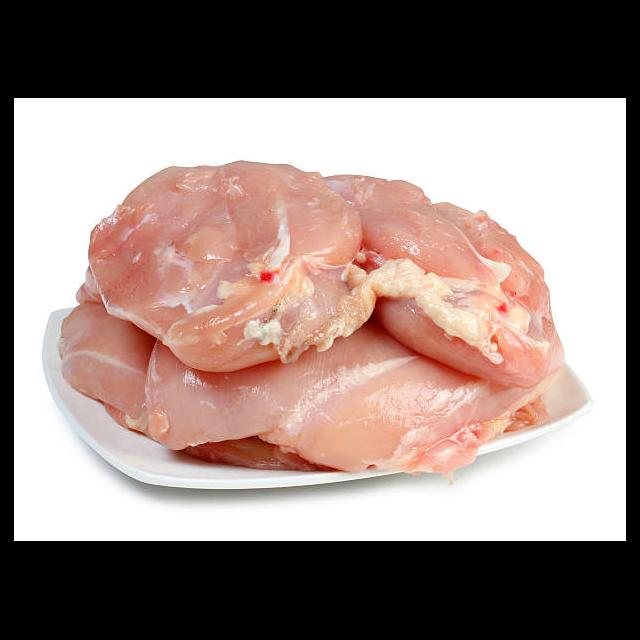chicken: (57, 158, 569, 482)
